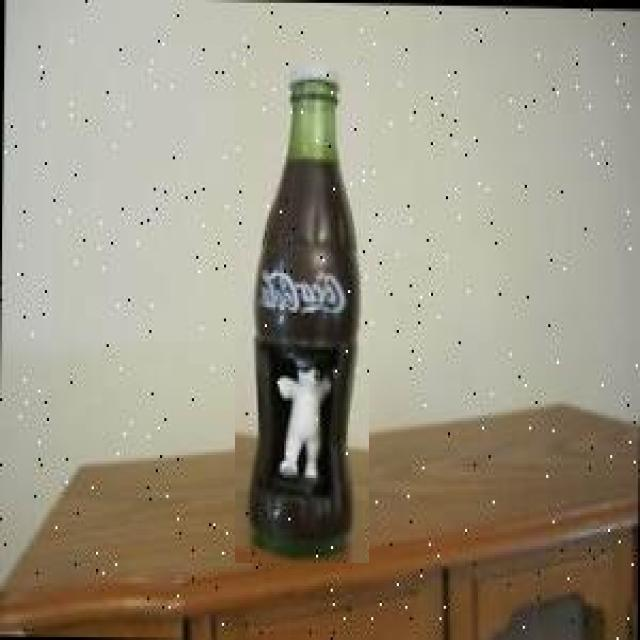coca-cola: (235, 60, 369, 563)
